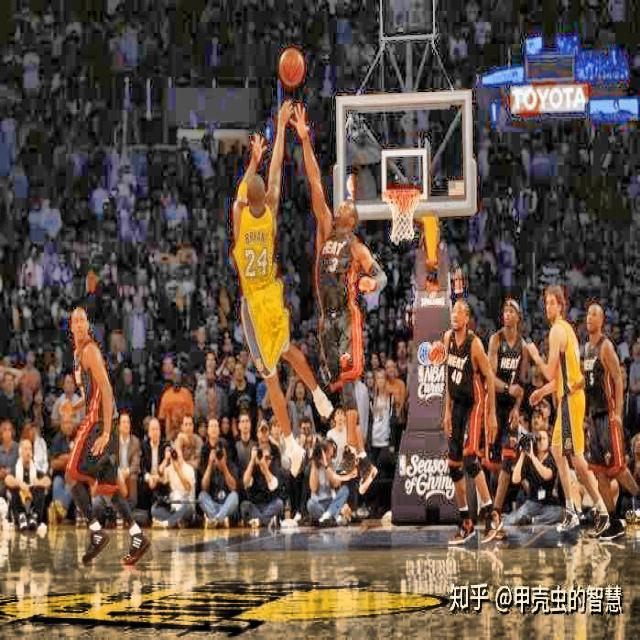rim: (380, 188, 421, 242)
